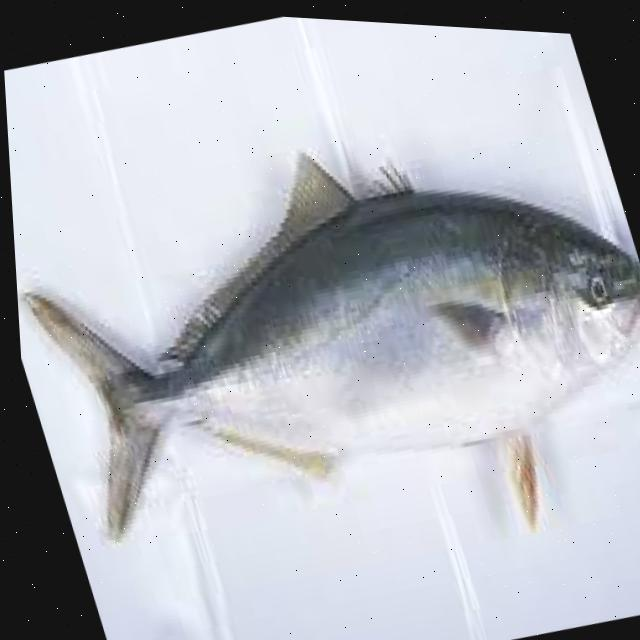Kingfish: (3, 58, 640, 640)
